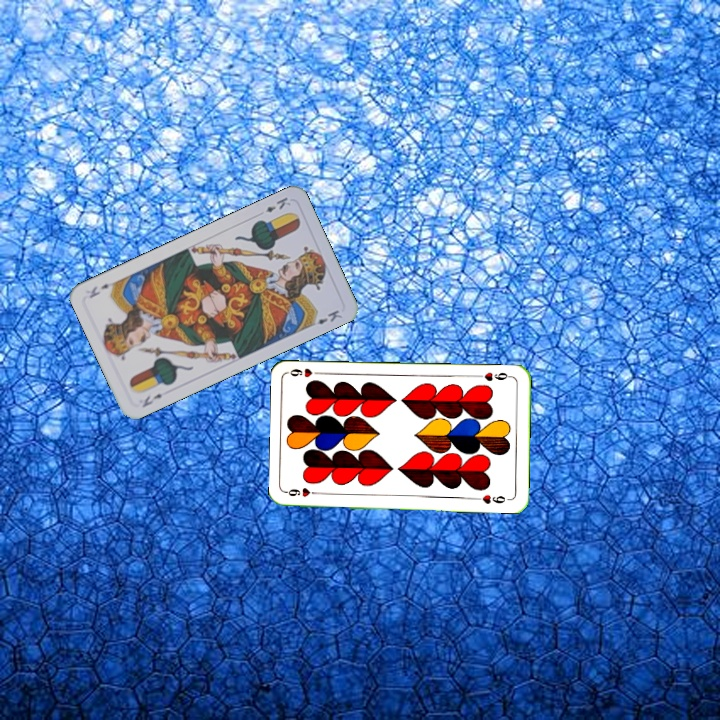EK: (261, 193, 293, 215), (138, 390, 165, 410)
H9: (474, 368, 515, 384), (283, 485, 324, 499)
